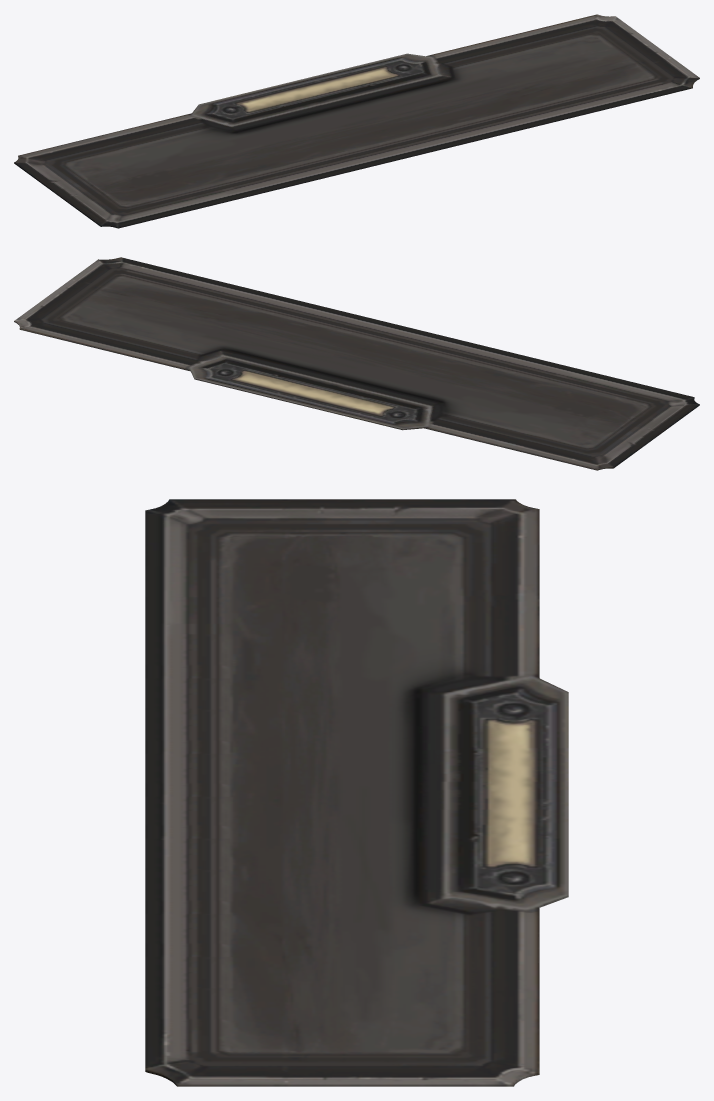
Rendered from NotificationPanel.glb.
3 renders of one model, top to bottom at view 1: azimuth 30°, elevation 25°; view 2: azimuth 150°, elevation 25°; view 3: azimuth 270°, elevation 25°, orthographic. The views are drawn at different scales.
Parts seen in each view (by area): view 1: Panel; view 2: Panel; view 3: Panel.
Part boxes in pixels (x1,y1,x2,y2): Panel: [14, 14, 699, 228]; Panel: [14, 257, 699, 470]; Panel: [145, 499, 568, 1086].
Bounding box in the file's own units: 19.73 × 0.03 × 6.03.
1 material, 1 textured.
